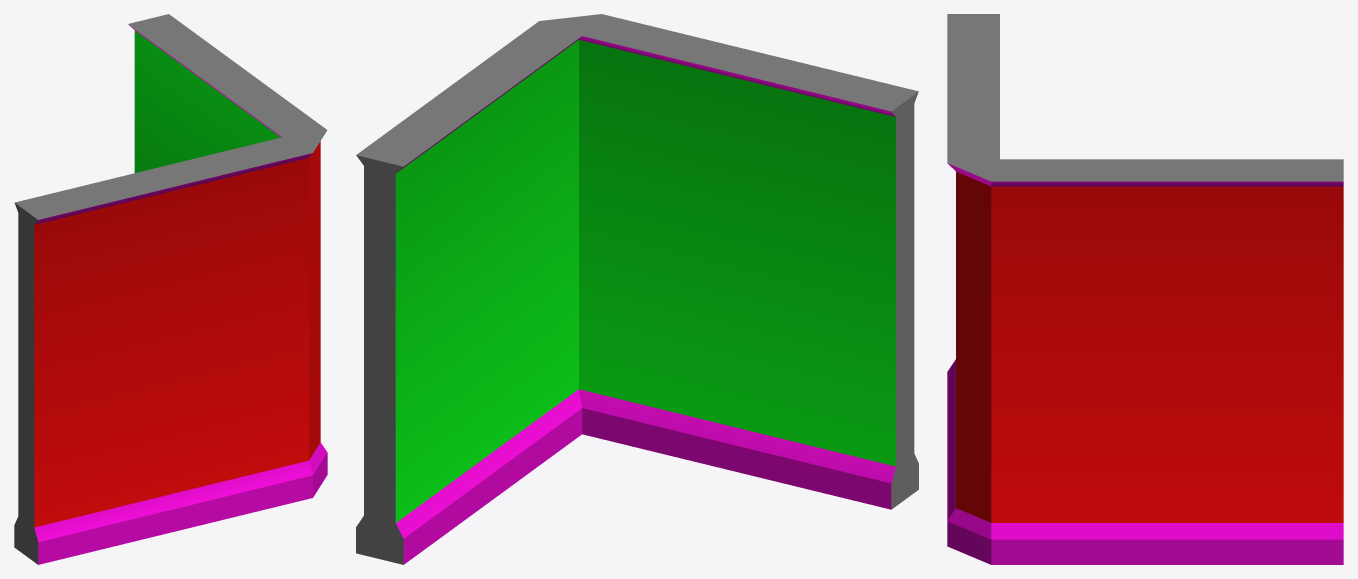
File: ModularOuterWallFinal.FBX
3 renders of one model, left to right at view 1: azimuth 30°, elevation 25°; view 2: azimuth 150°, elevation 25°; view 3: azimuth 270°, elevation 25°, orthographic. The views are drawn at different scales.
Parts seen in each view (by area): view 1: ModularWallOuter; view 2: ModularWallOuter; view 3: ModularWallOuter.
Part boxes in pixels (bbox=[...]): ModularWallOuter: bbox=[14, 14, 327, 564]; ModularWallOuter: bbox=[356, 14, 918, 564]; ModularWallOuter: bbox=[947, 14, 1343, 564].
Size of the model in its own units: 113 by 120 by 113.
